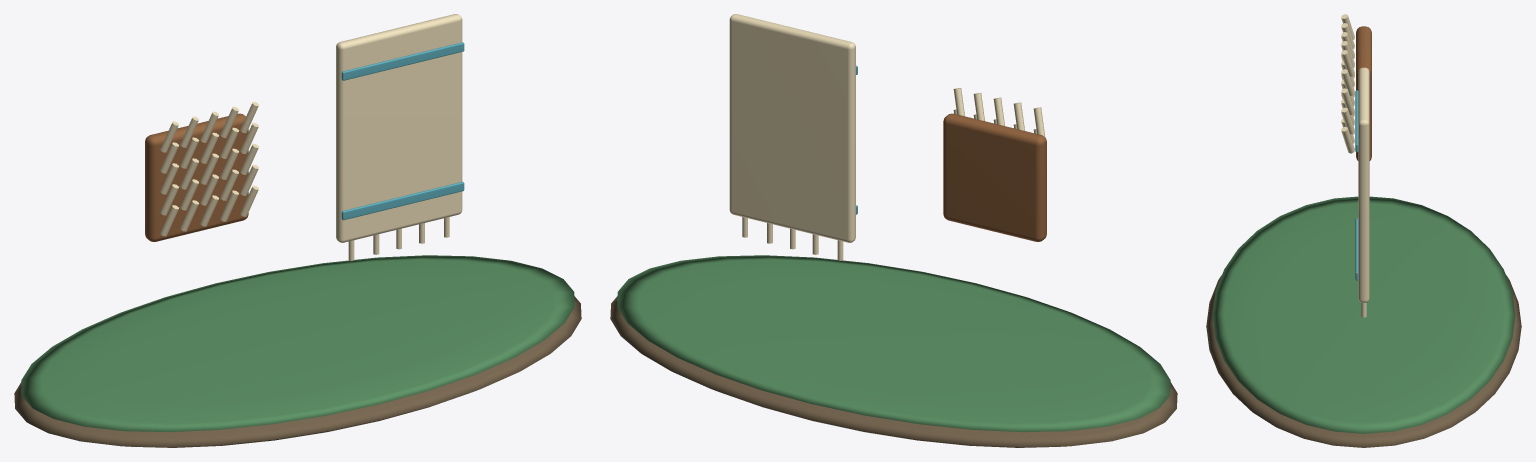
The model's file is soft-towel.glb.
The picture shows the model from 3 angles, left to right: view 1: azimuth 30°, elevation 25°; view 2: azimuth 150°, elevation 25°; view 3: azimuth 270°, elevation 25°; orthographic projection. The views are drawn at different scales.
Parts seen in each view (by area): view 1: soft-towel_surface_01, soft-towel_surface_03, soft-towel_surface_00, soft-towel_surface_02, soft-towel_surface_04; view 2: soft-towel_surface_01, soft-towel_surface_03, soft-towel_surface_02, soft-towel_surface_00; view 3: soft-towel_surface_01, soft-towel_surface_00, soft-towel_surface_03, soft-towel_surface_02, soft-towel_surface_04.
Boxes of the visible parts, box(x1,y1,x2,y2) form: soft-towel_surface_01: box(21, 255, 574, 432); soft-towel_surface_03: box(160, 14, 462, 260); soft-towel_surface_00: box(14, 296, 581, 447); soft-towel_surface_02: box(145, 113, 248, 241); soft-towel_surface_04: box(341, 42, 464, 220); soft-towel_surface_01: box(617, 255, 1170, 432); soft-towel_surface_03: box(729, 14, 1044, 260); soft-towel_surface_02: box(943, 113, 1046, 241); soft-towel_surface_00: box(610, 296, 1177, 447); soft-towel_surface_01: box(1212, 196, 1515, 433); soft-towel_surface_00: box(1206, 275, 1521, 447); soft-towel_surface_03: box(1341, 14, 1369, 317); soft-towel_surface_02: box(1356, 26, 1371, 160); soft-towel_surface_04: box(1355, 90, 1358, 280).
Size of the model in its own units: 4.56 by 2.56 by 2.5.
